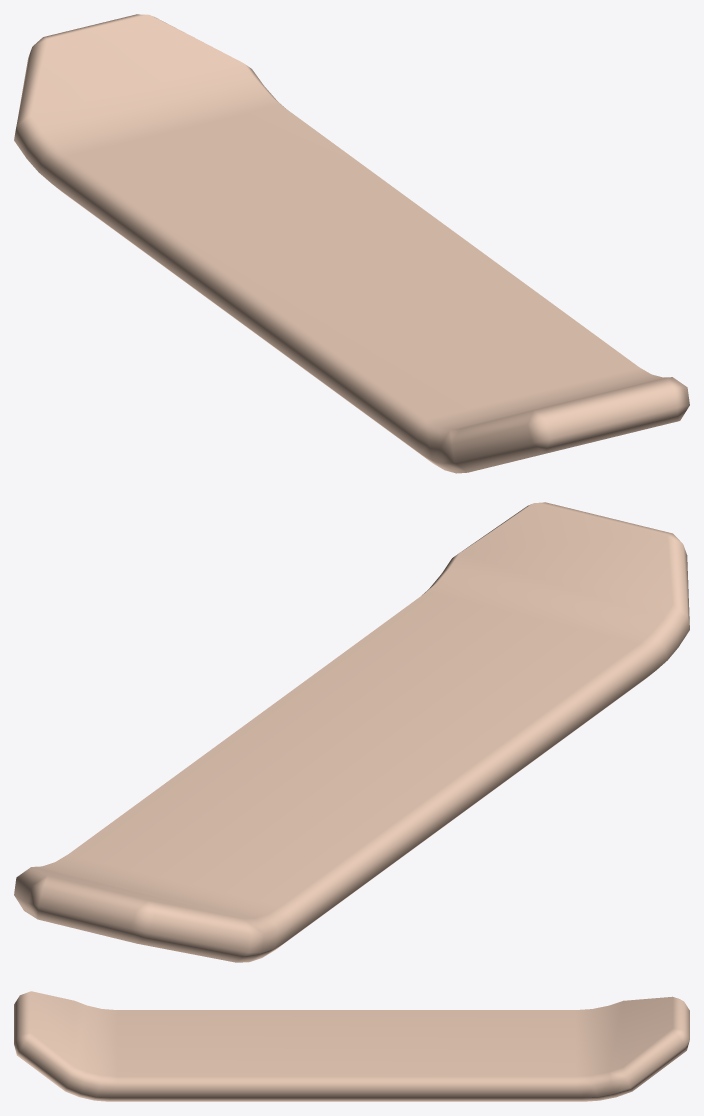
Rendered from bantruot.fbx.
The picture shows the model from 3 angles, top to bottom: view 1: azimuth 30°, elevation 25°; view 2: azimuth 150°, elevation 25°; view 3: azimuth 270°, elevation 25°; orthographic projection. The views are drawn at different scales.
Parts seen in each view (by area): view 1: R_bantruot; view 2: R_bantruot; view 3: R_bantruot.
Part boxes in pixels (box(x1,y1,x2,y2)): R_bantruot: box(14, 14, 689, 473); R_bantruot: box(14, 502, 689, 962); R_bantruot: box(14, 991, 689, 1101).
Size of the model in its own units: 1165 by 419 by 4533.
